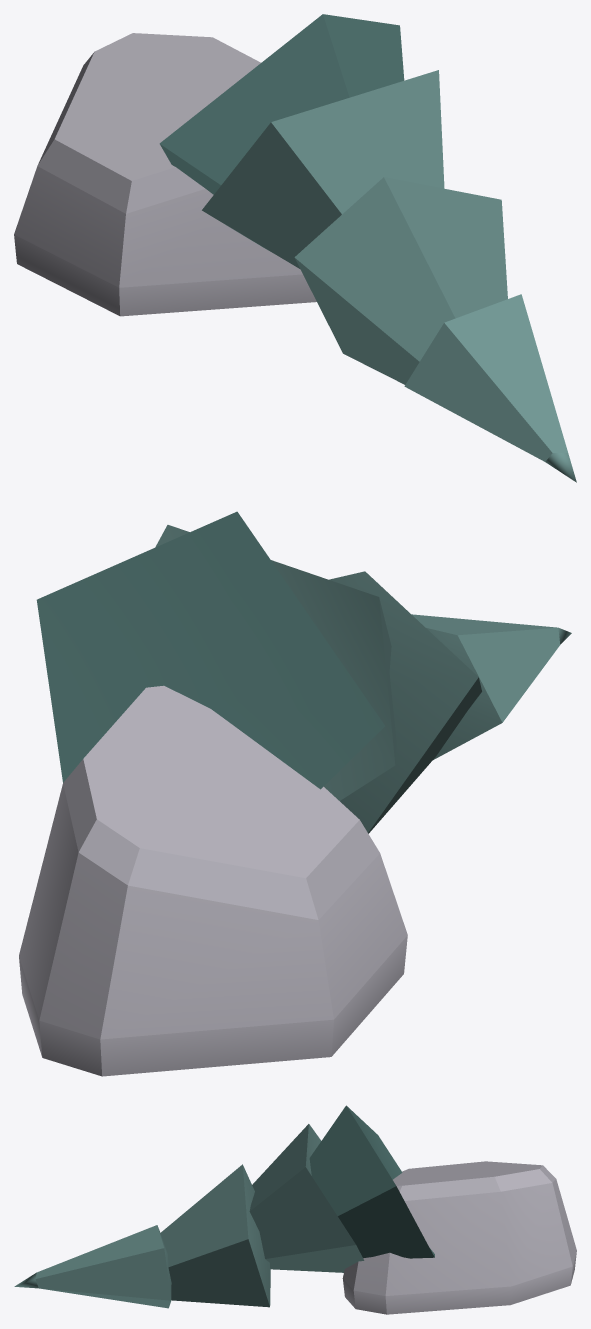
Rendered from Mountain_Omgevallen boom.fbx.
3 views of the same model, one above another, from view 1: azimuth 30°, elevation 25°; view 2: azimuth 150°, elevation 25°; view 3: azimuth 270°, elevation 25° (orthographic). The views are drawn at different scales.
Parts seen in each view (by area): view 1: polySurface1366; view 2: polySurface1366; view 3: polySurface1366.
Boxes of the visible parts, x1,y1,x2,y2 form: polySurface1366: (14,14,576,482); polySurface1366: (19,511,571,1076); polySurface1366: (14,1105,576,1314).
Size of the model in its own units: 4.82 by 4.61 by 11.77.
